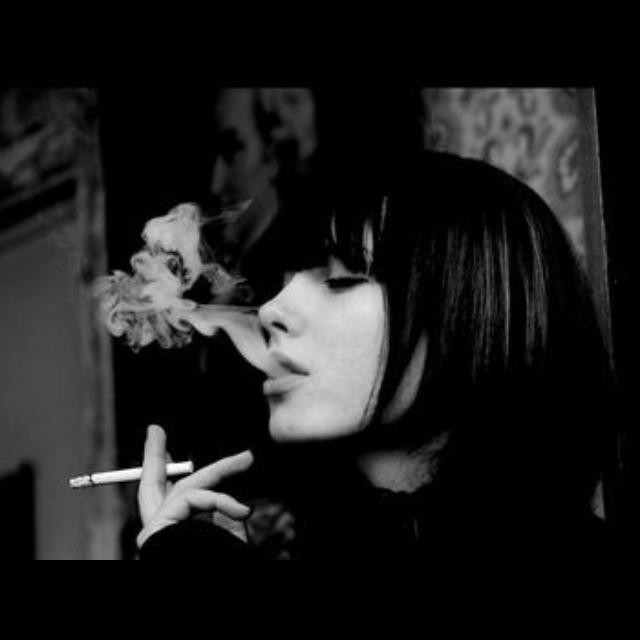rokok: (64, 464, 200, 494)
